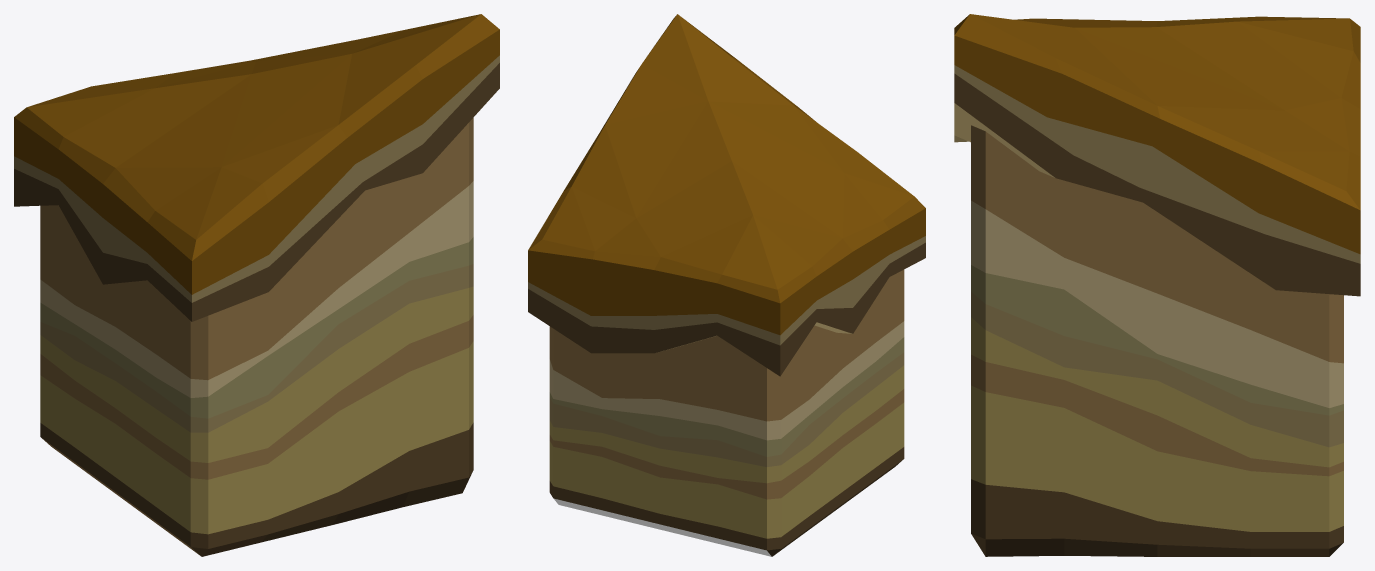
File: Runestrife-Land-Dirt-Corner.fbx
3 views of the same model, side by side, from view 1: azimuth 30°, elevation 25°; view 2: azimuth 150°, elevation 25°; view 3: azimuth 270°, elevation 25° (orthographic). The views are drawn at different scales.
Visible parts, largest first — view 1: Cube.001; view 2: Cube.001; view 3: Cube.001.
Part boxes in pixels (<box>): Cube.001: <box>14,14,499,556</box>; Cube.001: <box>528,14,925,556</box>; Cube.001: <box>954,14,1360,556</box>.
Bounding box in the file's own units: 300 × 448 × 300.
